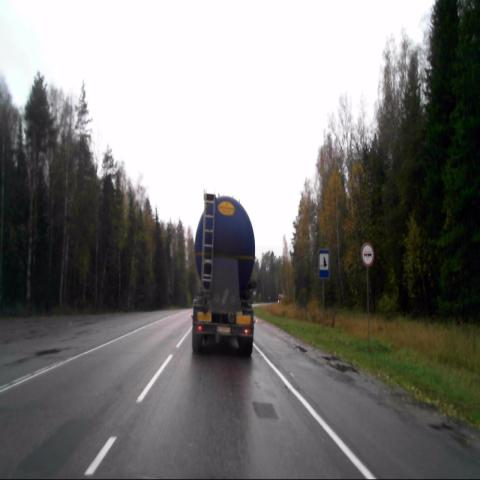7_11: (318, 250, 329, 278)
